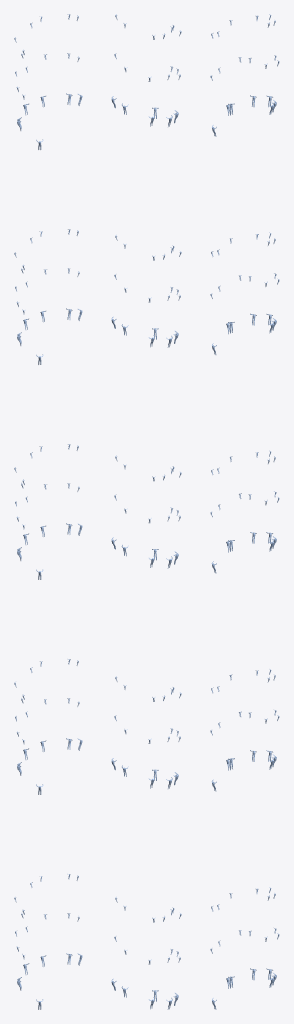
File: Circle9Crowd2.obj
3 views of the same model, side by side, from view 1: azimuth 30°, elevation 25°; view 2: azimuth 210°, elevation 25°; view 3: azimuth 330°, elevation 25° (orthographic). The views are drawn at different scales.
Parts seen in each view (by area): view 1: Circle9Crowd2; view 2: Circle9Crowd2; view 3: Circle9Crowd2.
Part boxes in pixels (box(x1,y1,x2,y2)): Circle9Crowd2: box(14, 14, 82, 1009); Circle9Crowd2: box(111, 14, 181, 1009); Circle9Crowd2: box(210, 14, 279, 1009).
Bounding box in the file's own units: 28.73 × 437 × 23.64.
Materials: 1 (1 with a texture image).
